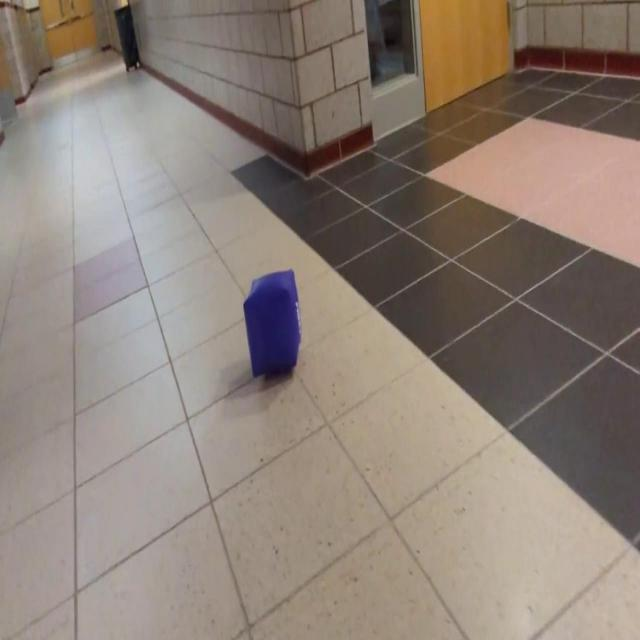frc_cube: (247, 269, 300, 375)
